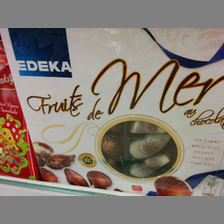chocolate: (1, 28, 224, 194)
